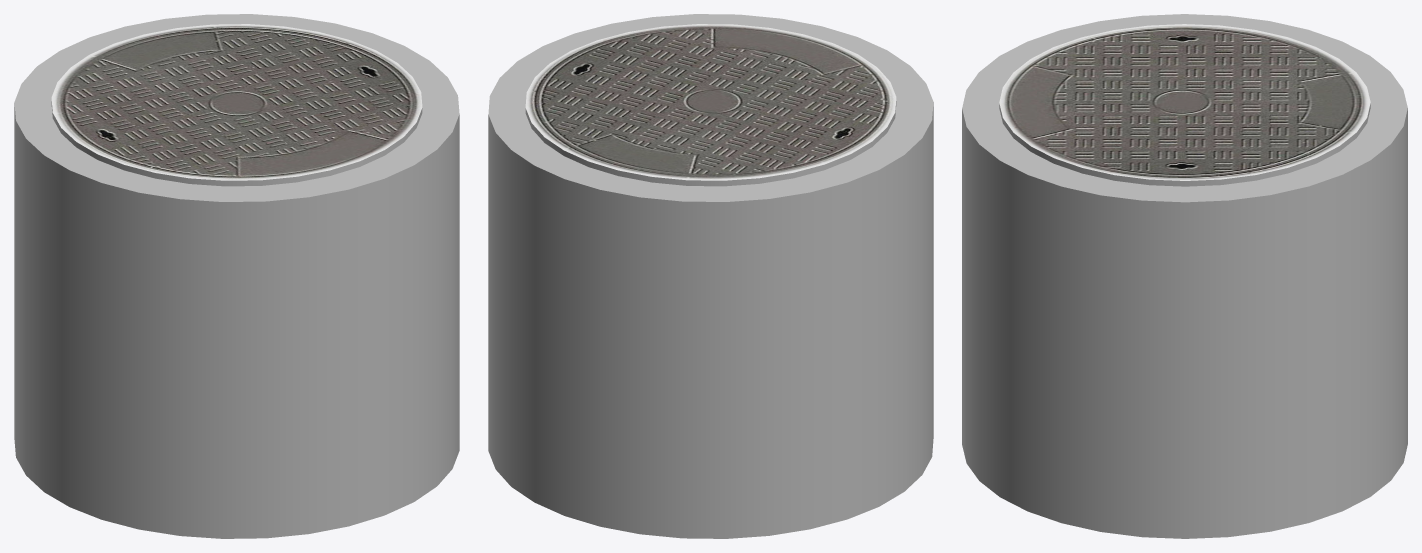
The picture shows the model from 3 angles, left to right: view 1: azimuth 30°, elevation 25°; view 2: azimuth 150°, elevation 25°; view 3: azimuth 270°, elevation 25°; orthographic projection.
Visible parts, largest first — view 1: 9-14; view 2: 9-14; view 3: 9-14.
Boxes of the visible parts, x1,y1,x2,y2 form: 9-14: (14,14,459,538); 9-14: (488,14,933,538); 9-14: (962,14,1407,538).
Bounding box in the file's own units: 1.2 × 1.02 × 1.2.
Materials: 3 (1 with a texture image).
